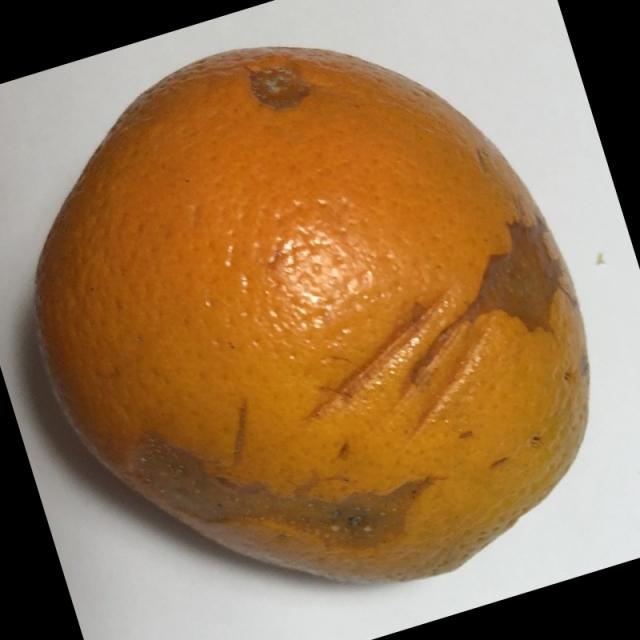canker: (16, 26, 608, 600)
